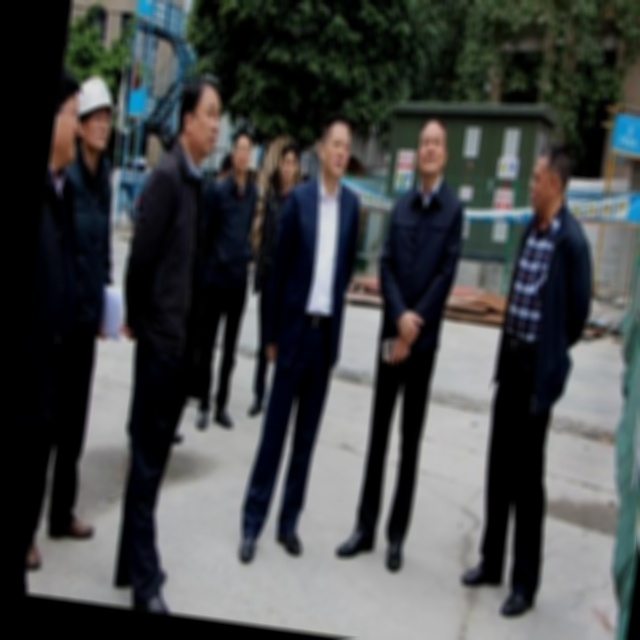Sin_Casco_Mascarrilla: (171, 74, 227, 162), (314, 113, 356, 183)
Sin_Chaleco: (495, 210, 603, 377), (371, 171, 469, 336)
